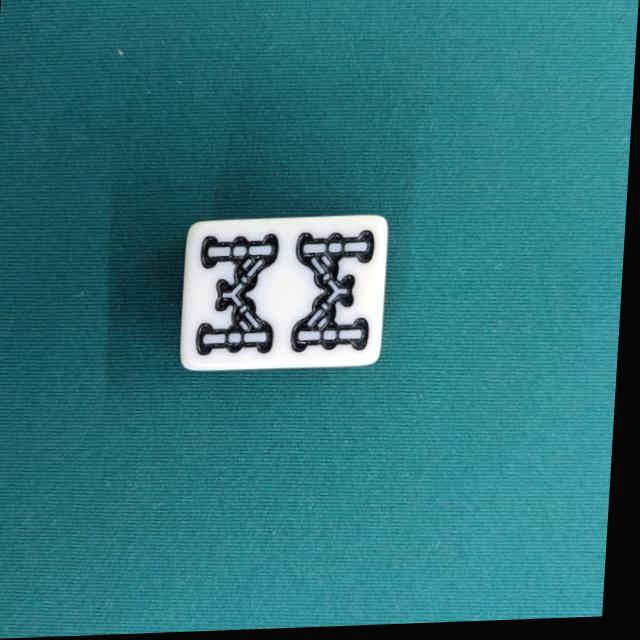8s: (183, 216, 394, 374)
